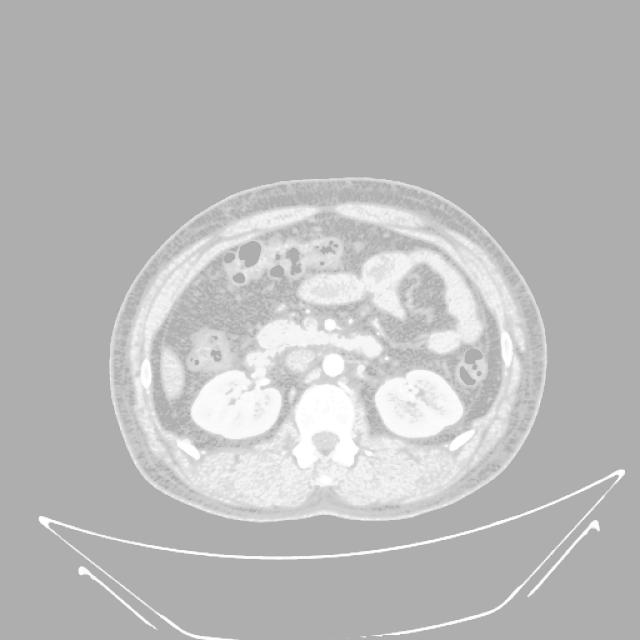NORMAL: (93, 184, 544, 531)
